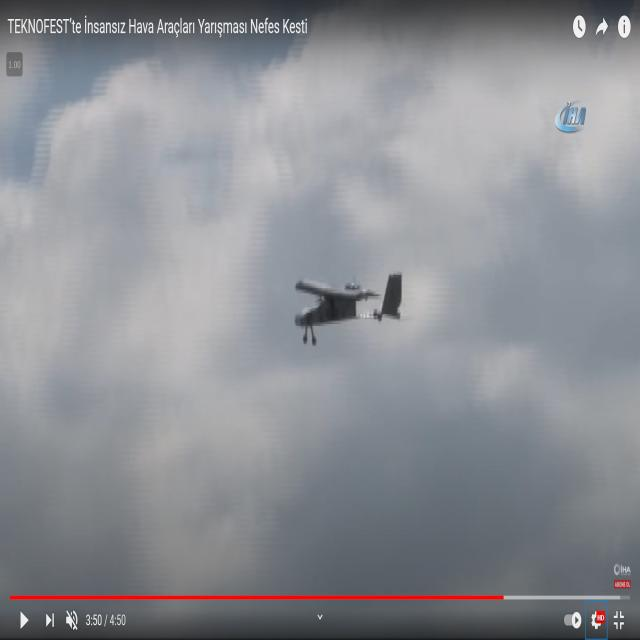iha: (323, 302, 381, 317)
